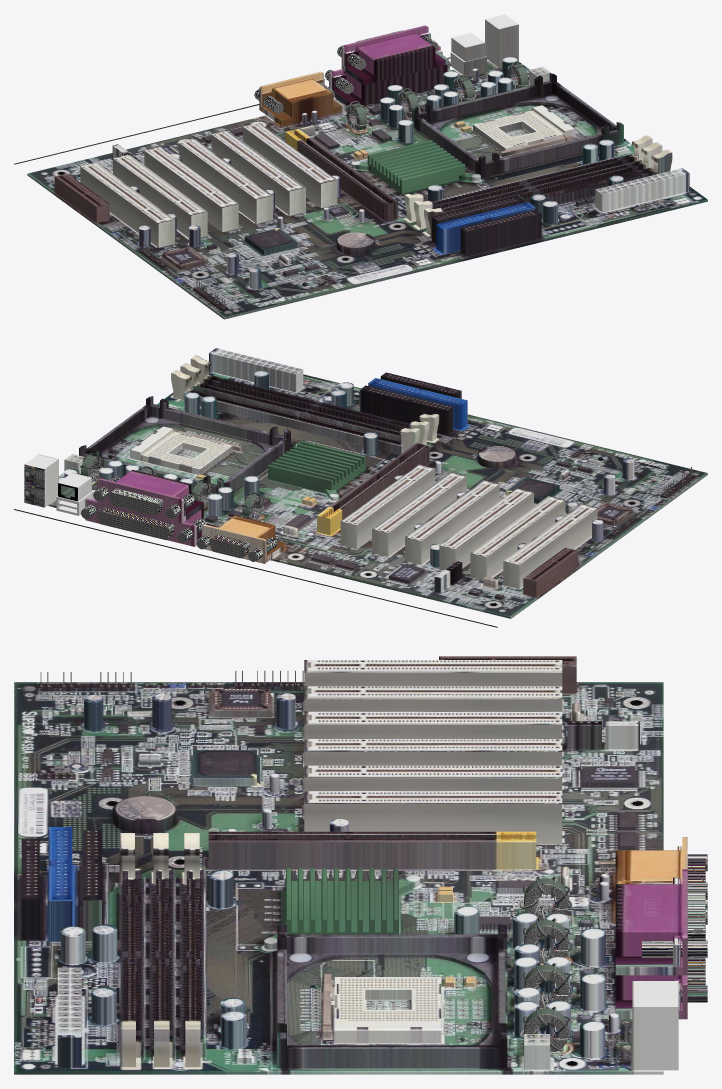
File: Motherboard.FBX
The picture shows the model from 3 angles, top to bottom: view 1: azimuth 30°, elevation 25°; view 2: azimuth 150°, elevation 25°; view 3: azimuth 270°, elevation 25°; orthographic projection. The views are drawn at different scales.
Parts seen in each view (by area): view 1: mainboard; view 2: mainboard; view 3: mainboard.
Part boxes in pixels (bbox=[...]): mainboard: bbox=[14, 14, 707, 319]; mainboard: bbox=[14, 348, 707, 627]; mainboard: bbox=[14, 656, 707, 1074].
Bounding box in the file's own units: 118 × 11.26 × 89.18.
1 material, 1 textured.
